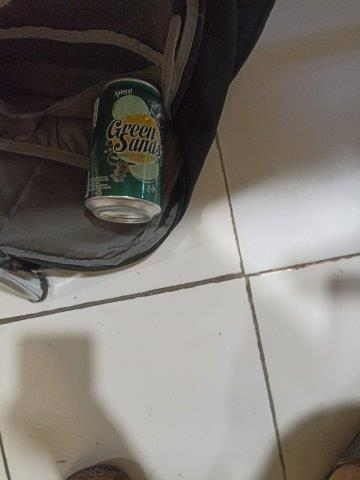kaleng: (84, 77, 162, 223)
